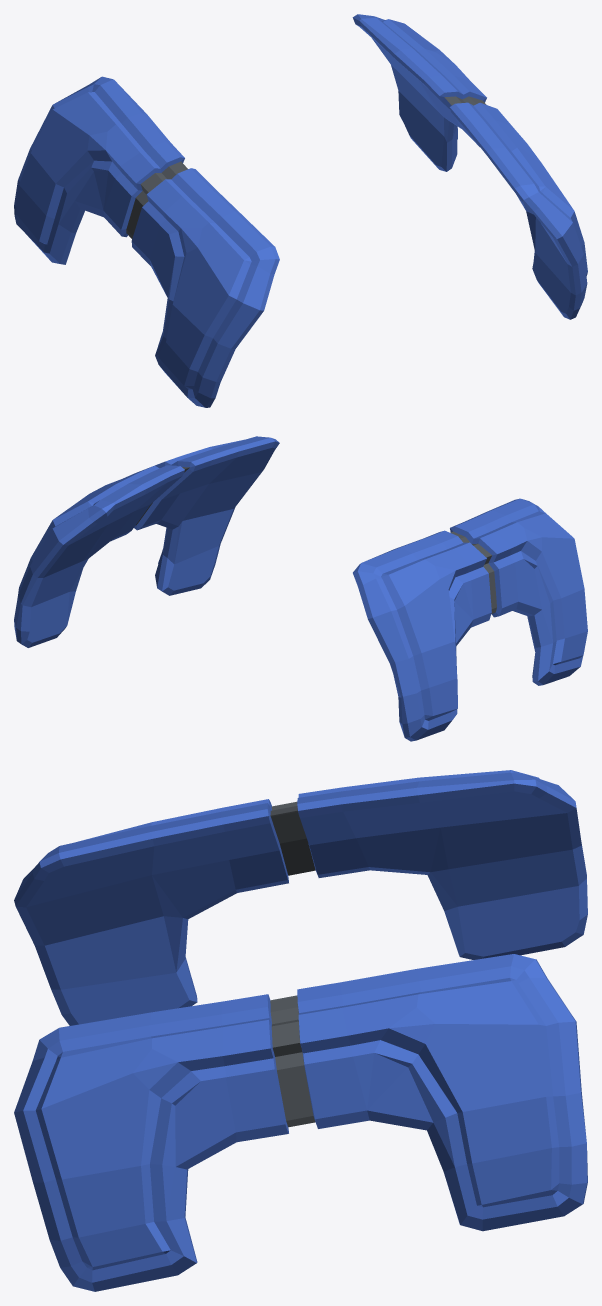
The model's file is Fighter_06_Side_Frame_Blue.fbx.
3 views of the same model, one above another, from view 1: azimuth 30°, elevation 25°; view 2: azimuth 150°, elevation 25°; view 3: azimuth 270°, elevation 25° (orthographic). The views are drawn at different scales.
Visible parts, largest first — view 1: Fighter_06_Side_Frame_Blue; view 2: Fighter_06_Side_Frame_Blue; view 3: Fighter_06_Side_Frame_Blue.
Boxes of the visible parts, <box> form: Fighter_06_Side_Frame_Blue: <box>14,14,587,407</box>; Fighter_06_Side_Frame_Blue: <box>14,436,587,741</box>; Fighter_06_Side_Frame_Blue: <box>14,770,587,1291</box>.
Bounding box in the file's own units: 310 × 146 × 256.
Materials: 1 (1 with a texture image).
